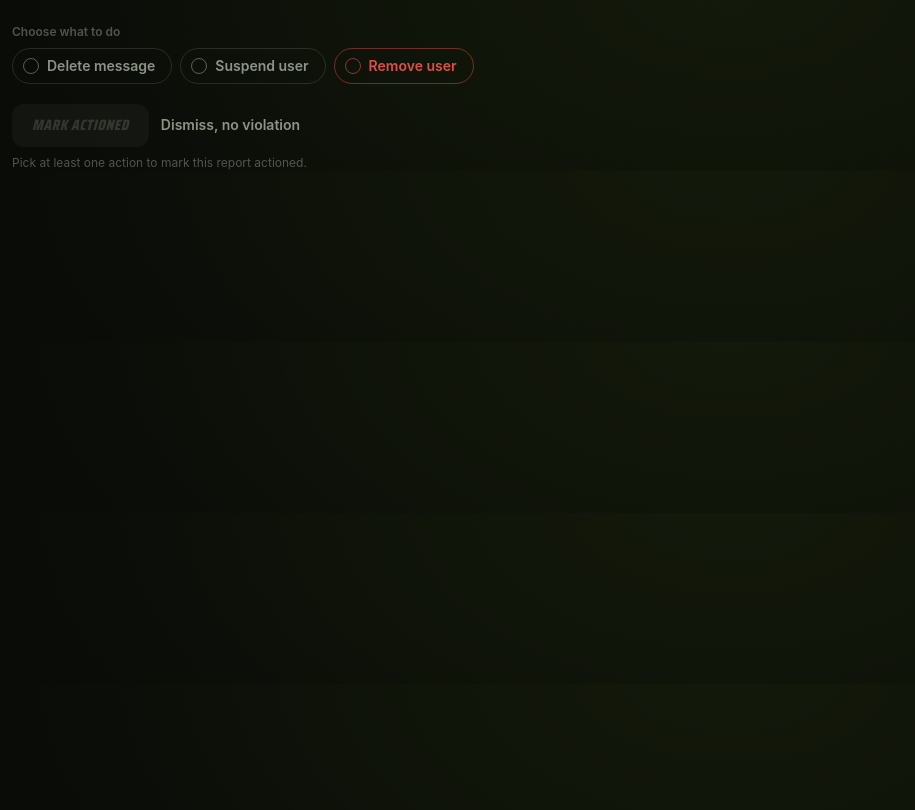
Test: Mark actioned is disabled until an action bubble is picked
Expected: the button "Mark actioned" is disabled, [12,104,149,146]
Step 1. Click the button "Delete message" → click(92, 66), box [12,48,172,84]
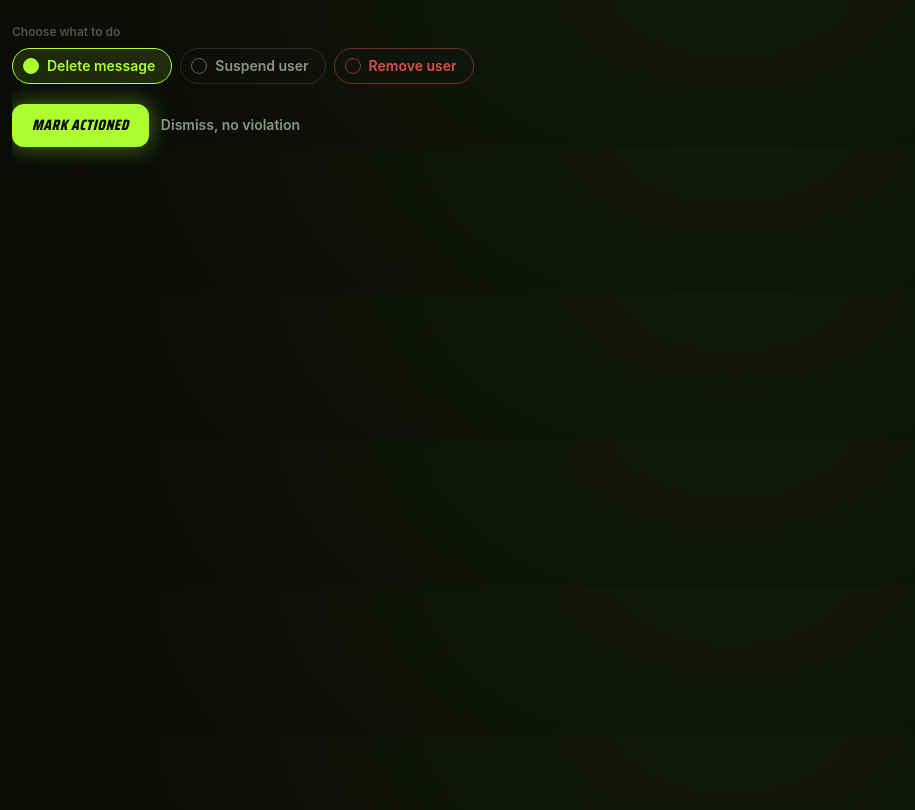
Now the button "Mark actioned" is enabled, box [12,104,149,146]
